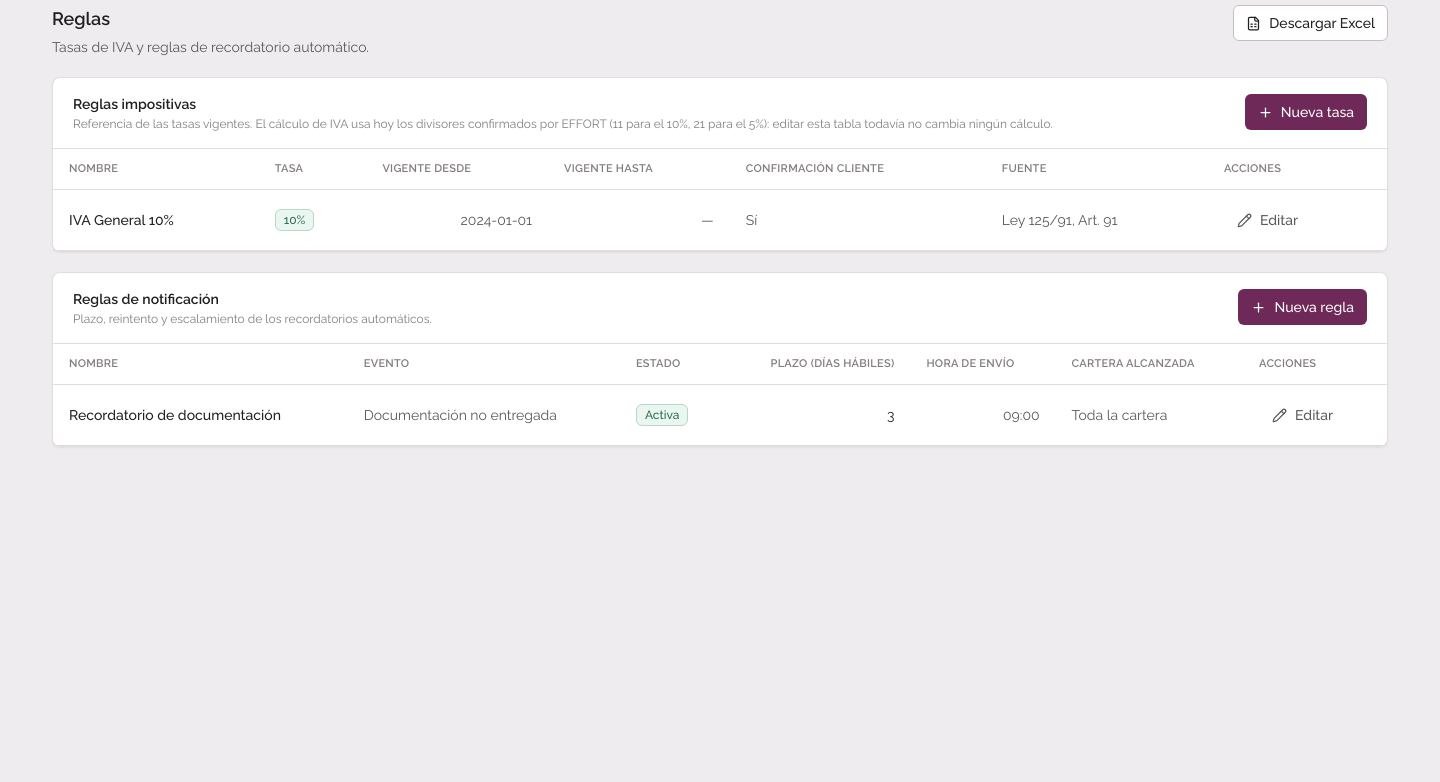
Test case: pantalla de reglas › dirección da de alta una regla de notificación con cartera acotada
This screenshot has width=1440, height=782.
Expected: the text "IVA General 10%" is shown, [53, 190, 259, 250]
Expected: the text "Recordatorio de documentación" is shown, [53, 384, 348, 446]
Step 1. Click the button "Nueva regla" → point(1303, 307), box [1238, 289, 1367, 325]
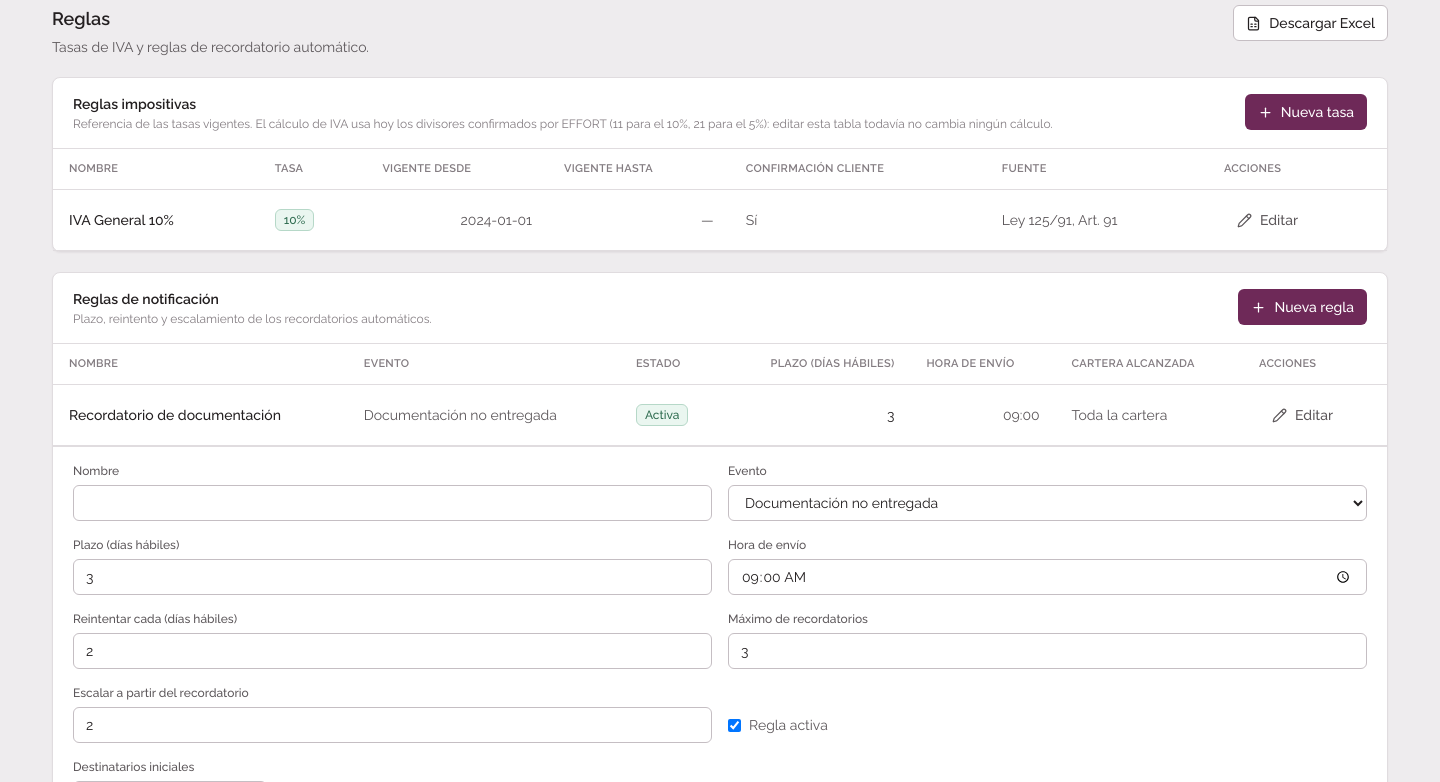
Step 2. Type "Aviso de vencimiento próximo" into the field labelled "Nombre" → point(392, 503), box [73, 485, 712, 521]
(page scrolled)
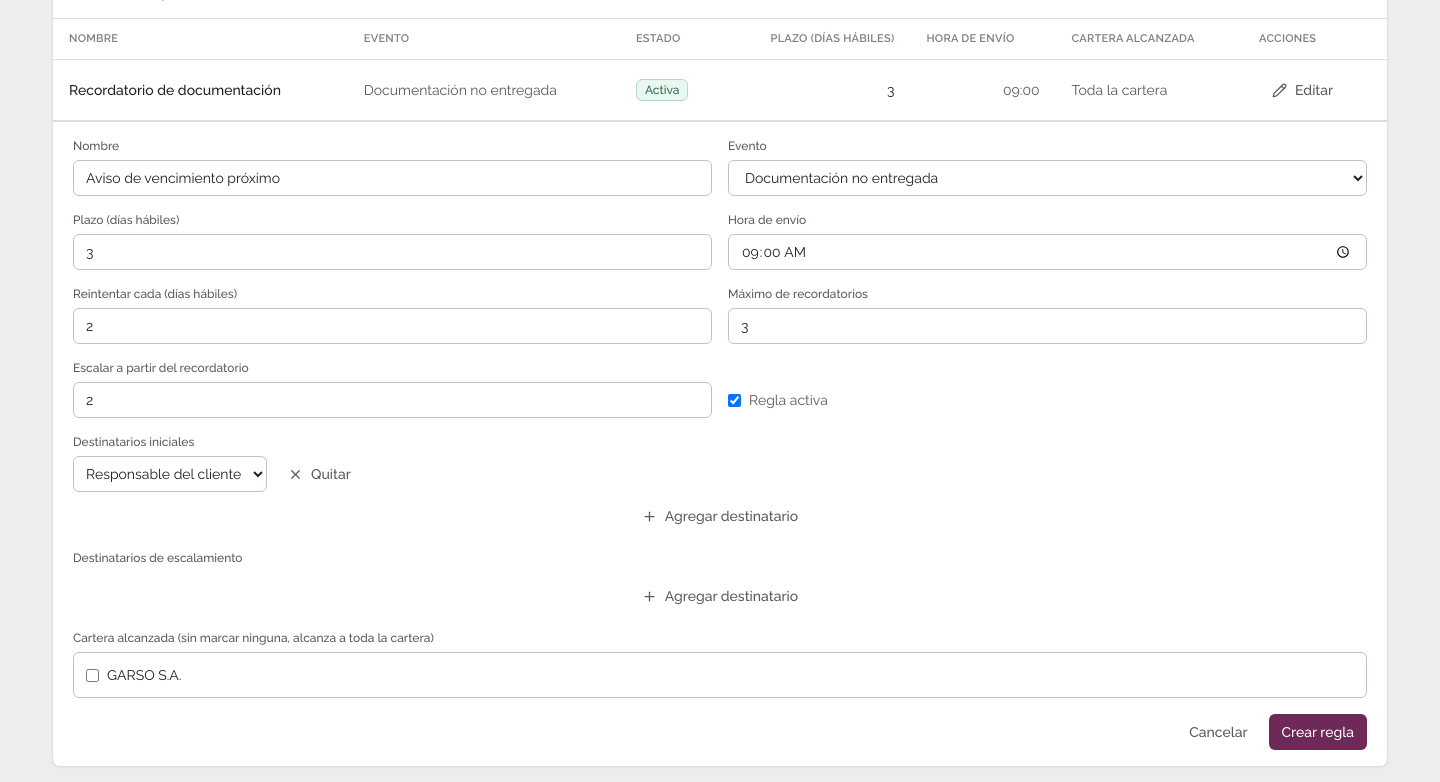
Step 3. Click the checkbox labelled "GARSO S.A." → point(92, 675), box [86, 668, 99, 682]
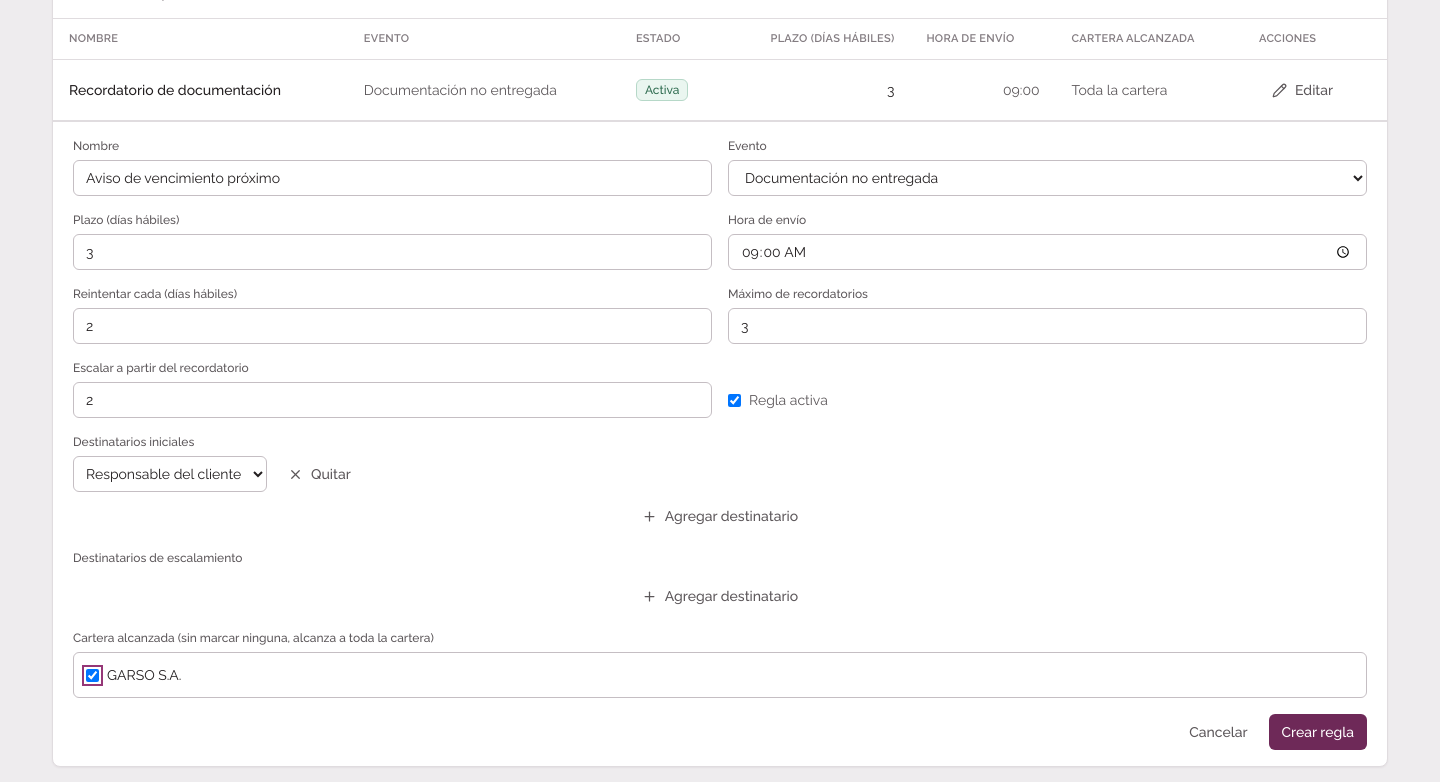
Step 4. Click the button "Crear regla" → point(1318, 732), box [1268, 714, 1367, 750]
(page scrolled)
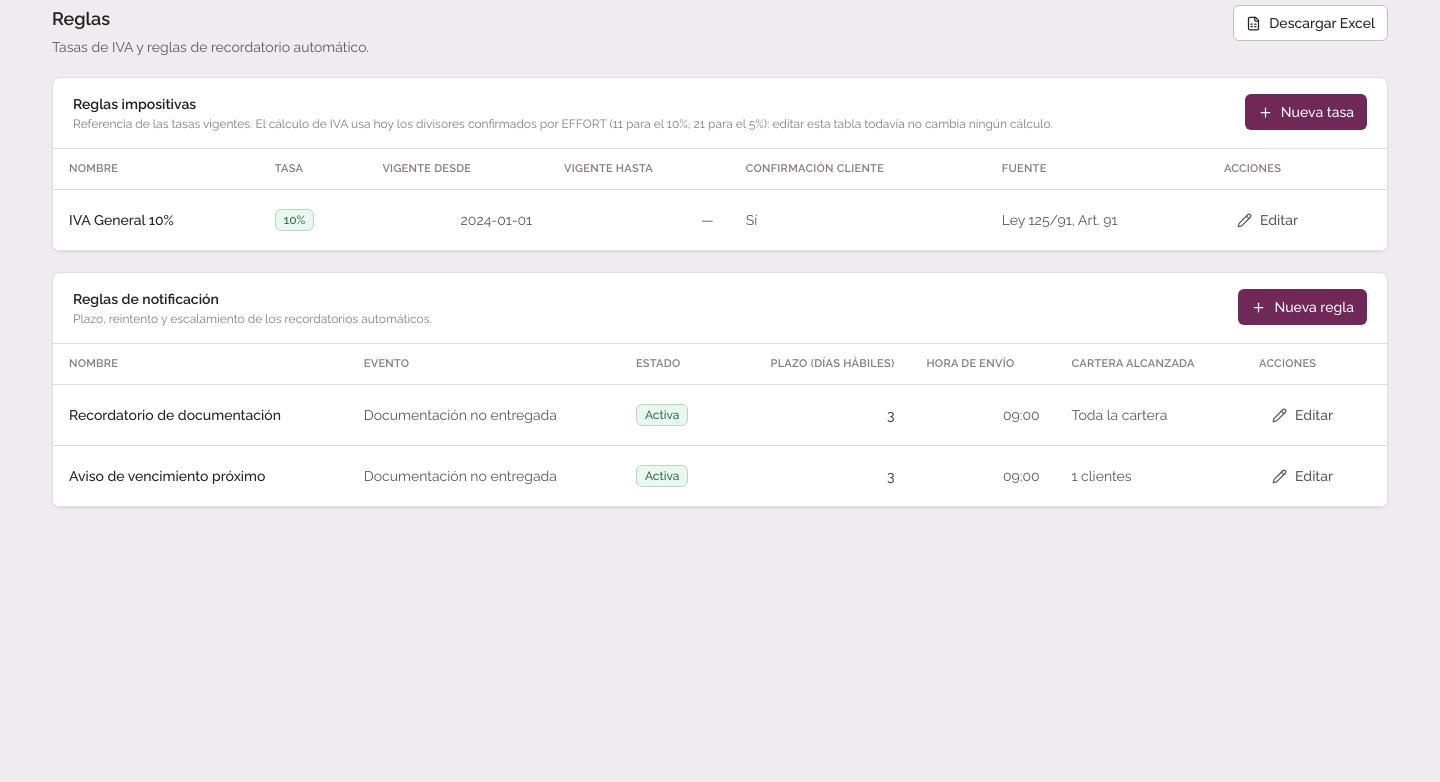
Now the cell "Aviso de vencimiento próximo" is shown, box [53, 446, 348, 506]
